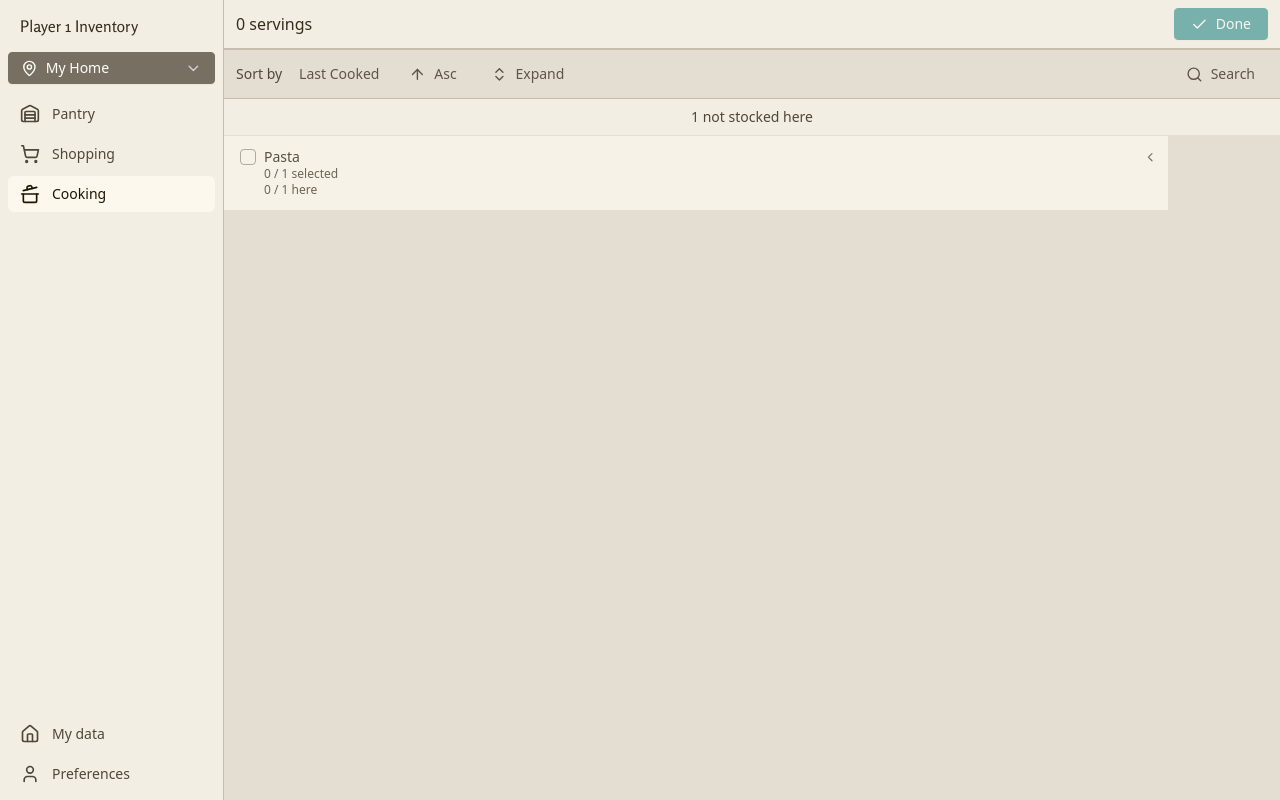
Scenario: Use (Cooking) Page › user can expand a recipe to see its items
Click the button named "Expand Pasta": click(1150, 157) [1136,143,1164,171]
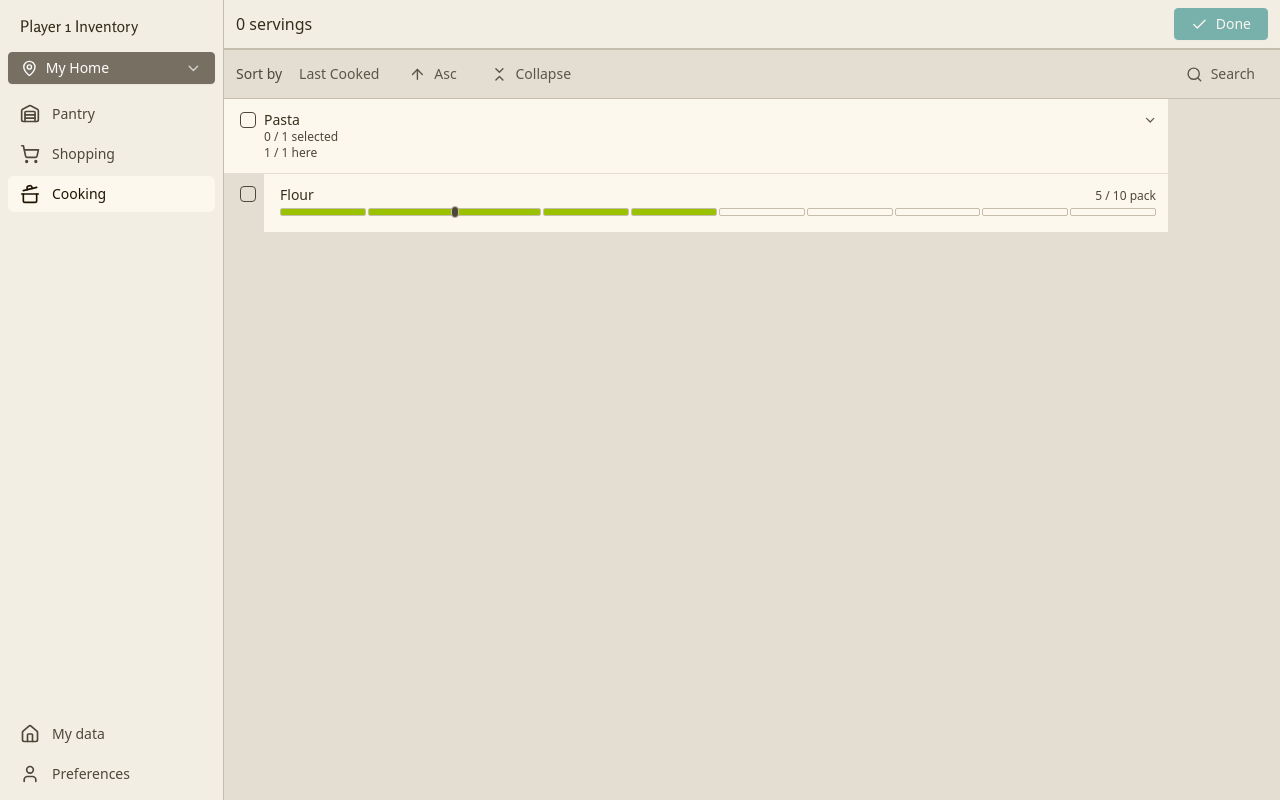
Expected: the heading "Flour" is shown, [280,186,314,203]
